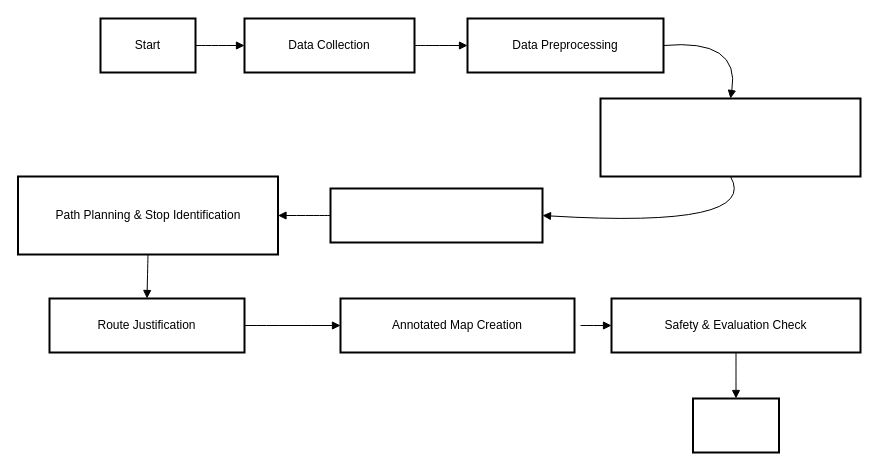
Some shapes in this 879 by 470 pixel diagram are drawn without their labels. The shapes that lost their labels are listed below. From the top down, each one's centre as x and y in pixels, then its label:
At (730,137): "Landing Site & Path Initialization".
At (436,215): "Hazard Identification".
At (736,425): "End".
